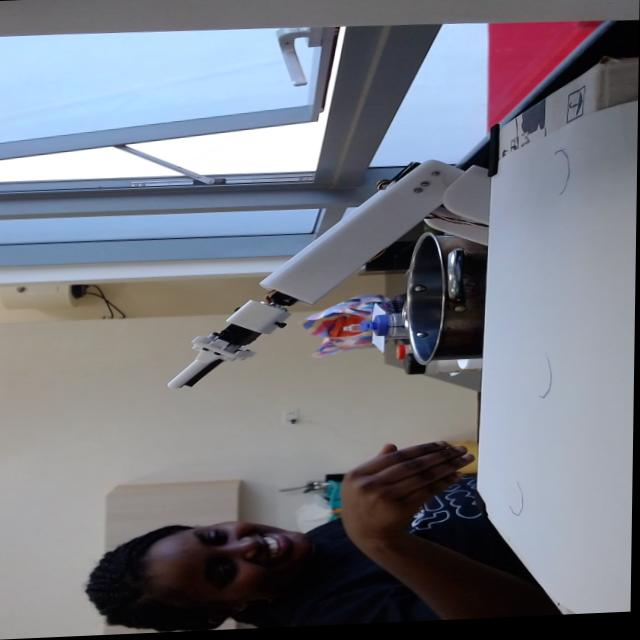cooking_pot: (373, 240, 497, 372)
